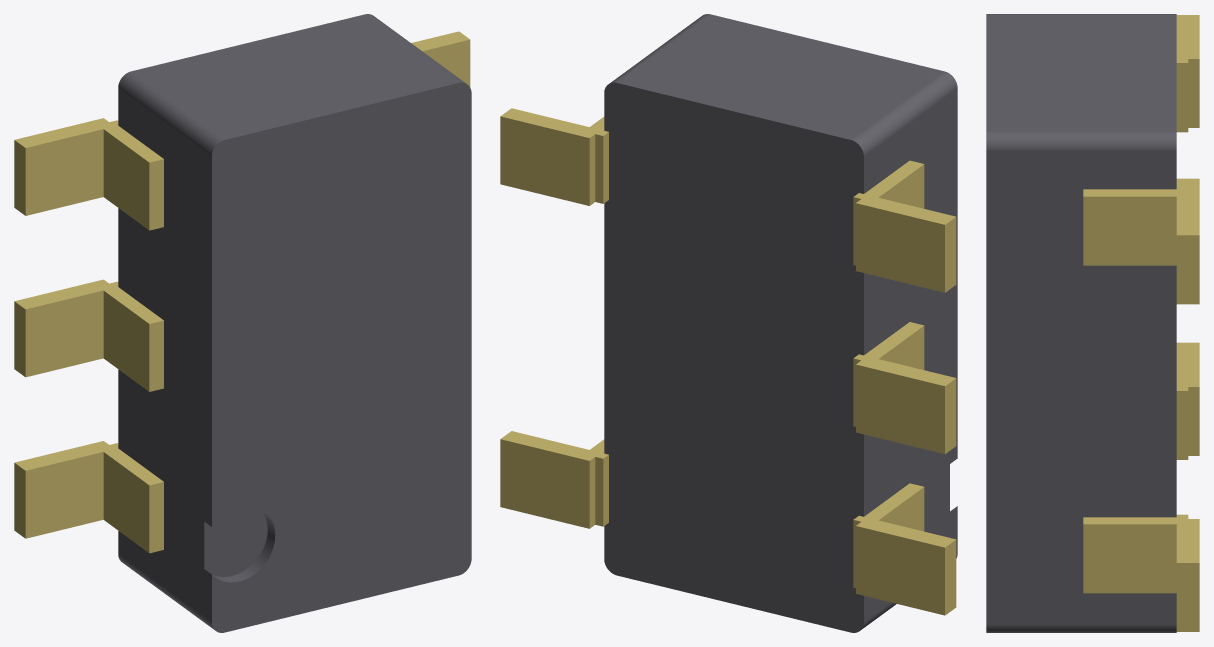
3 renders of one model, left to right at view 1: azimuth 30°, elevation 25°; view 2: azimuth 150°, elevation 25°; view 3: azimuth 270°, elevation 25°, orthographic.
Visible parts, largest first — view 1: extra, pins; view 2: extra, pins; view 3: extra, pins.
Part boxes in pixels (left/top/right/bottom): extra: left=118, top=14, right=471, bottom=632; pins: left=14, top=31, right=470, bottom=553; extra: left=604, top=14, right=957, bottom=632; pins: left=500, top=108, right=956, bottom=615; extra: left=986, top=14, right=1176, bottom=632; pins: left=1083, top=15, right=1199, bottom=631.
Size of the model in its own units: 2.74 by 2.9 by 1.12.
